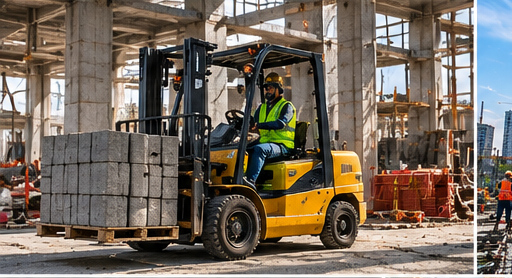machinery: (28, 15, 379, 269)
